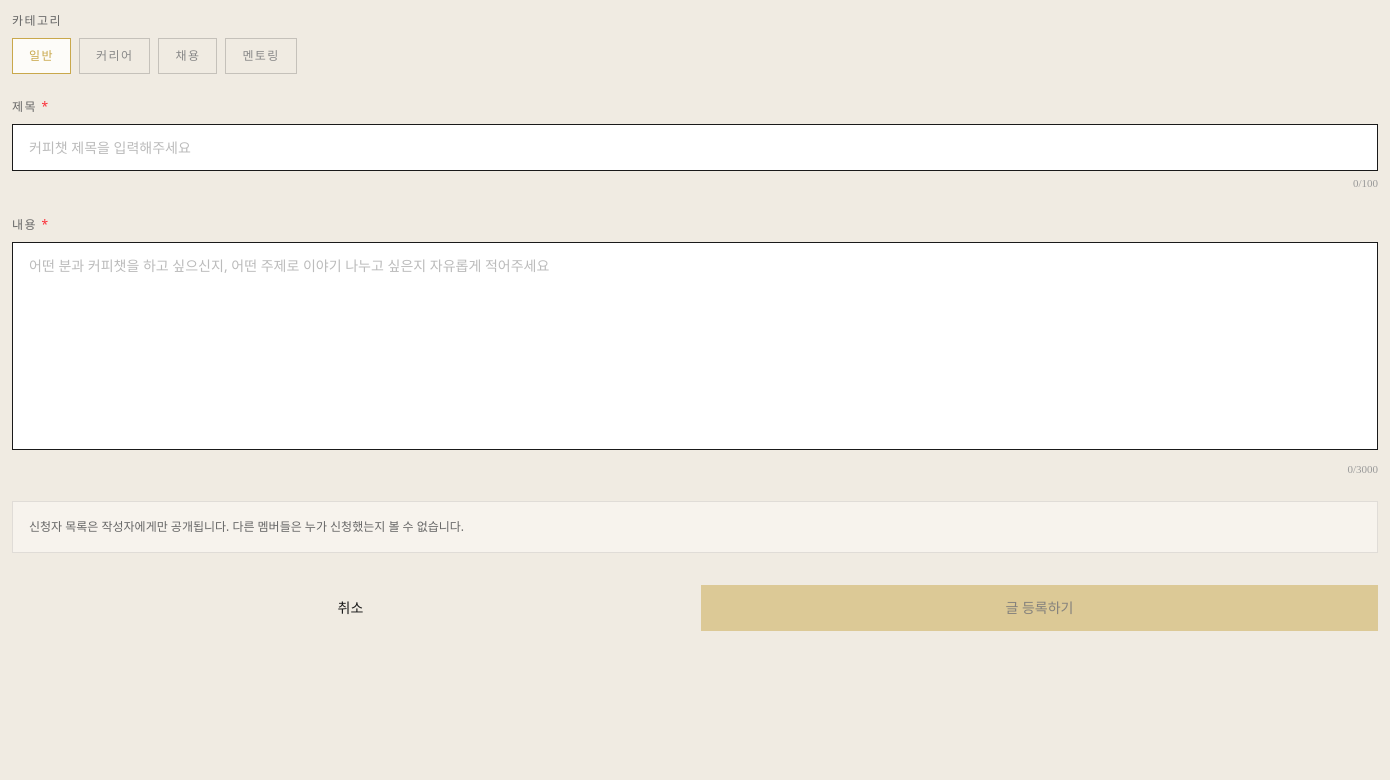
Test case: PeerChatForm › shows network error message when fetch throws
Type "제목" into the field with placeholder "커피챗 제목을 입력해주세요". click: (695, 148)
box: [12,124,1378,171]
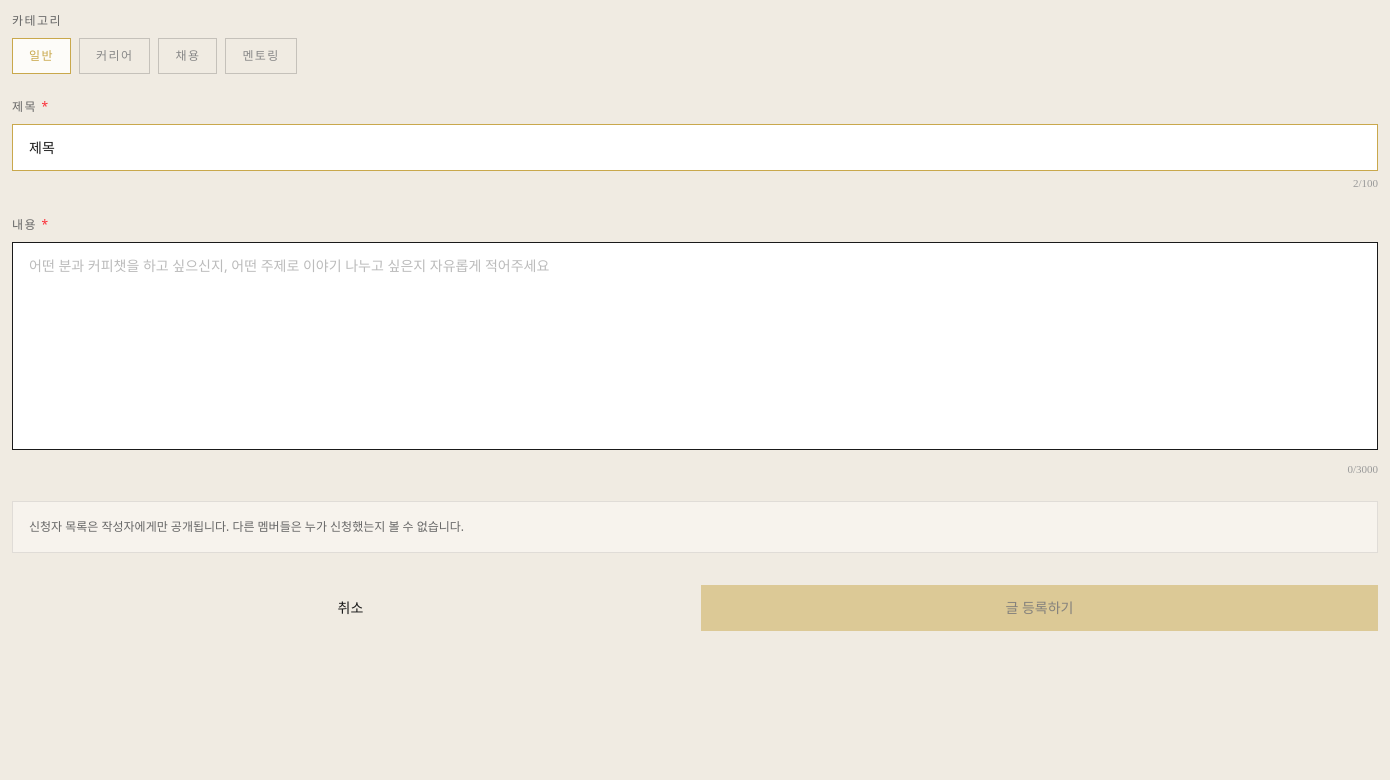
Type "내용" into the text box with placeholder "어떤 분과 커피챗을 하고 싶으신지, 어떤 주제로 이야기 나누고 싶은지 자유롭게 적어주세요". click: (695, 346)
box: [12,242,1378,450]
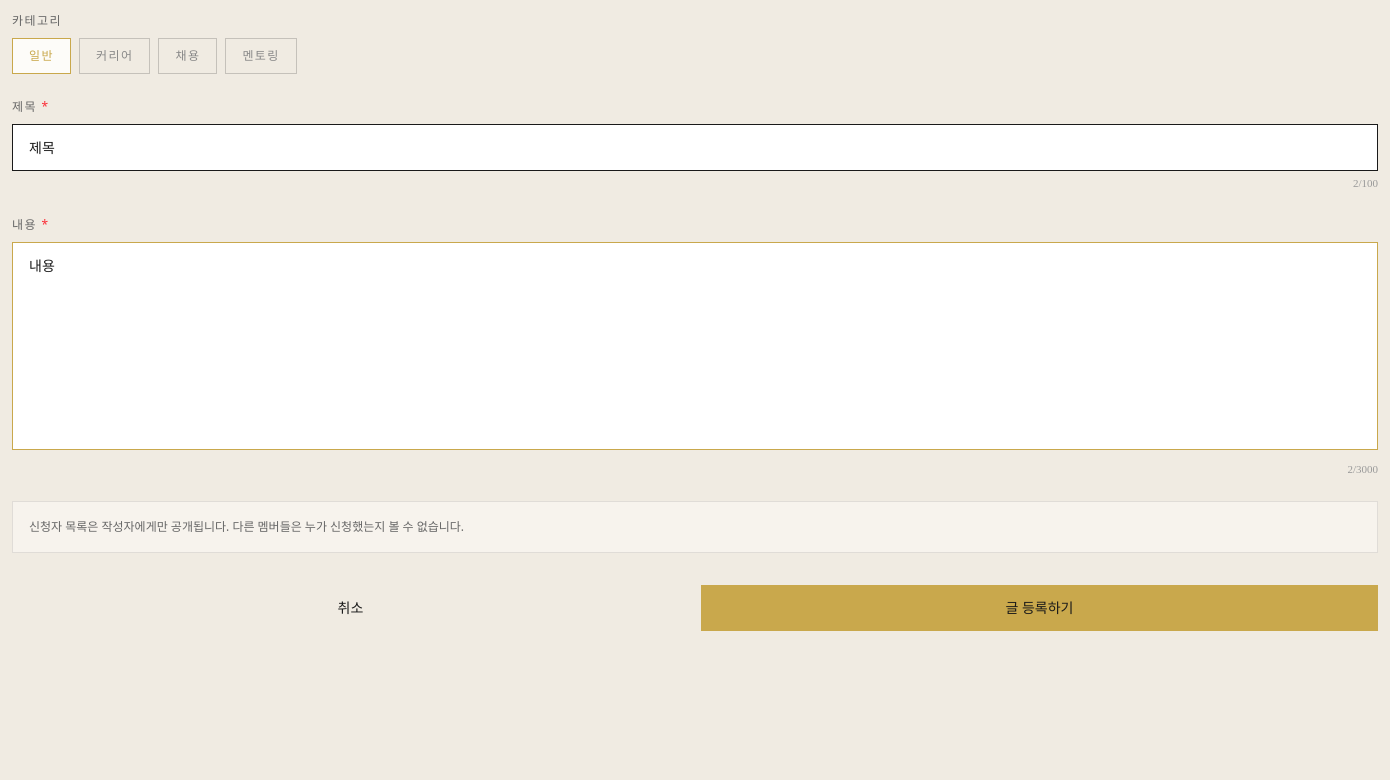
Click the button "글 등록하기". click: click(1040, 608)
box: [701,585,1378,631]
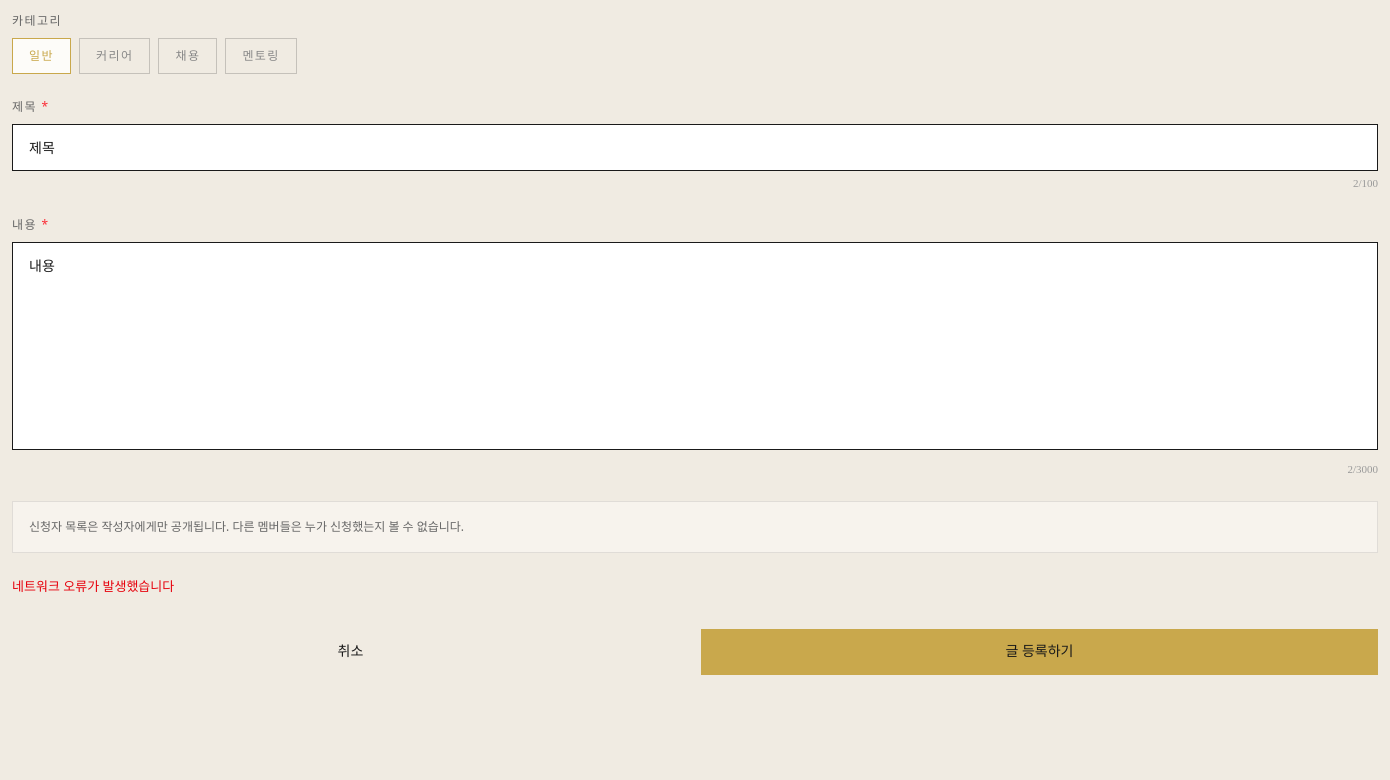
Expected: the text "네트워크 오류가 발생했습니다" is shown, [12,577,174,595]
